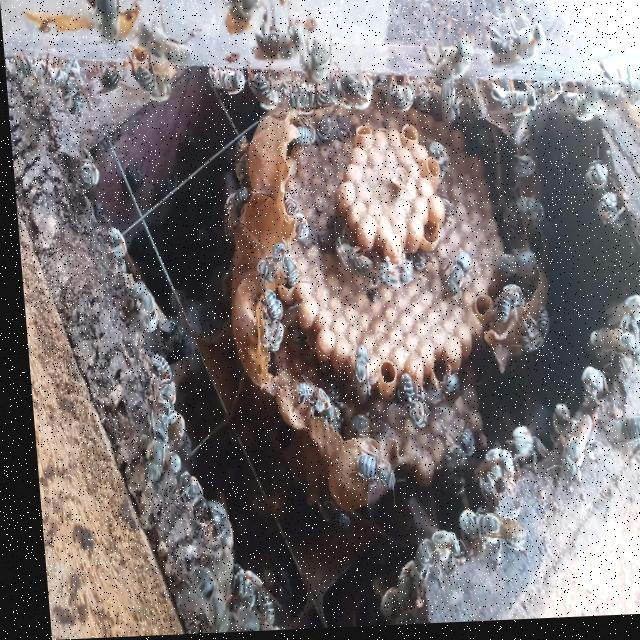Meliponula: (450, 508, 531, 568), (546, 409, 590, 504), (288, 367, 336, 438), (268, 240, 309, 302), (345, 451, 393, 503), (436, 245, 477, 304), (327, 234, 367, 284), (246, 65, 280, 121), (253, 290, 278, 358), (207, 54, 241, 103), (223, 0, 259, 46), (129, 56, 159, 111), (69, 149, 99, 202), (221, 181, 254, 229), (244, 242, 276, 288), (404, 246, 426, 281)
